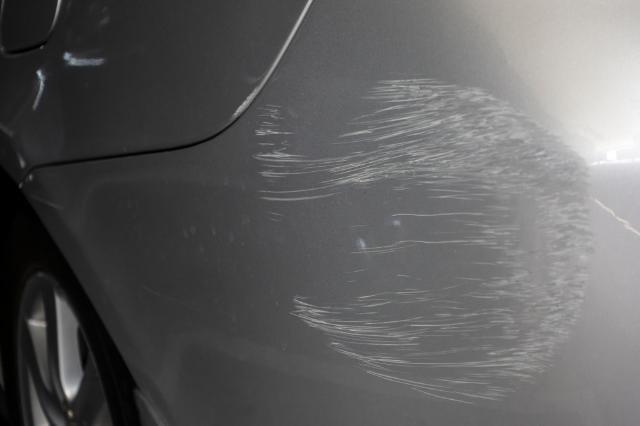scratch: (252, 77, 593, 405)
